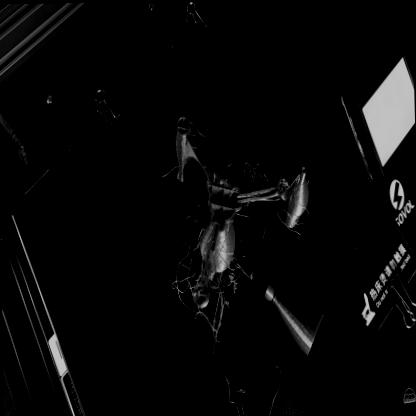fail: (211, 268, 253, 348), (171, 240, 201, 284), (223, 371, 252, 416), (240, 158, 271, 191)
